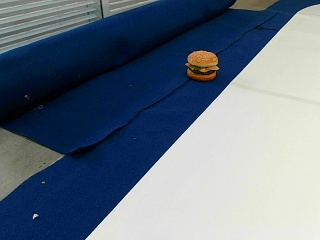burger: (185, 48, 219, 79)
